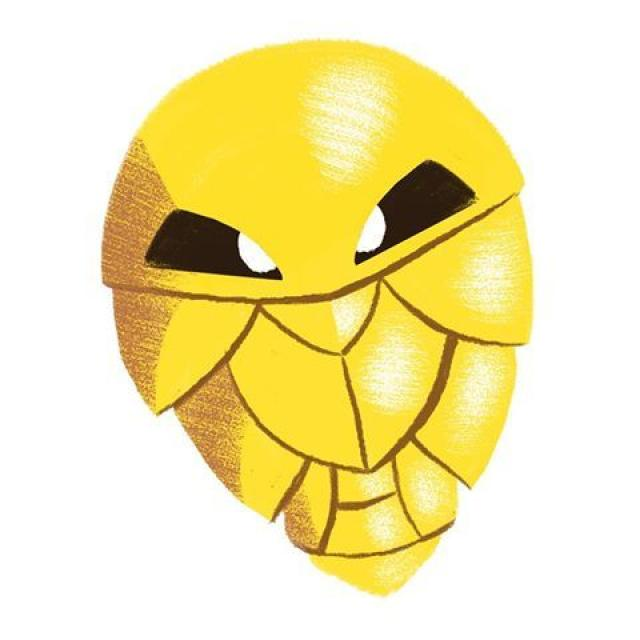Kakuna: (94, 18, 543, 600)
